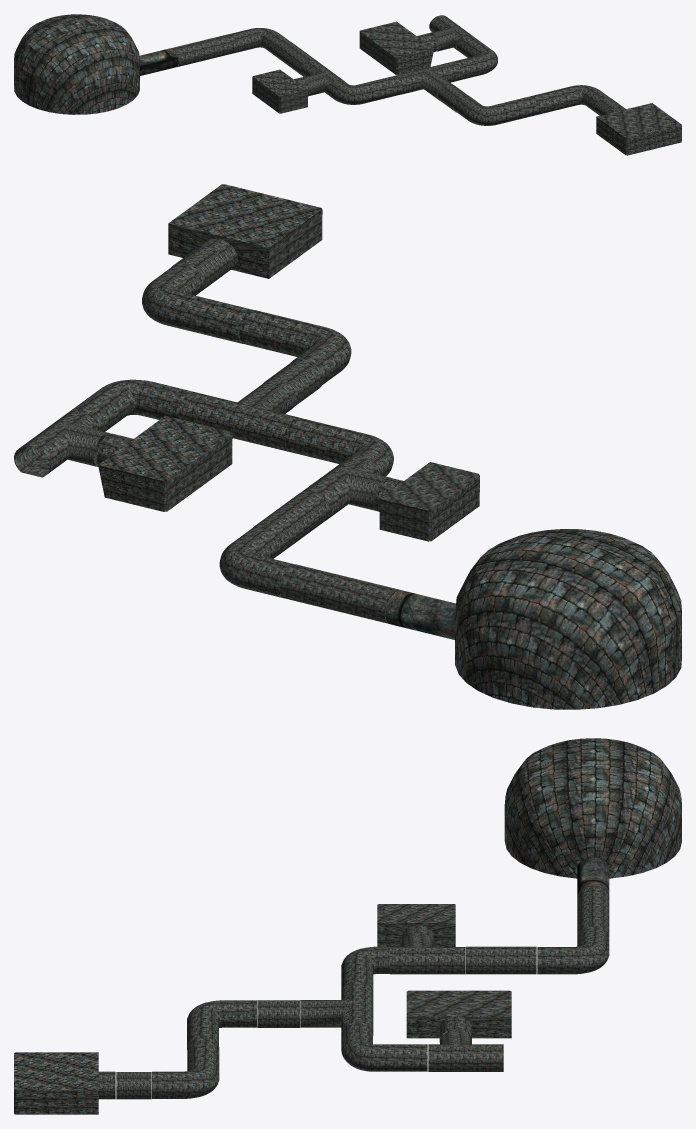
The model's file is Tunnels_ForNow.fbx.
3 renders of one model, top to bottom at view 1: azimuth 30°, elevation 25°; view 2: azimuth 150°, elevation 25°; view 3: azimuth 270°, elevation 25°, orthographic. The views are drawn at different scales.
Visible parts, largest first — view 1: Cylinder008; view 2: Cylinder008; view 3: Cylinder008.
Part boxes in pixels (x1,y1,x2,y2): Cylinder008: (14, 14, 681, 155); Cylinder008: (14, 184, 681, 709); Cylinder008: (14, 738, 681, 1114).
Bounding box in the file's own units: 1930 × 265 × 1756.
6 materials, 6 textured.
